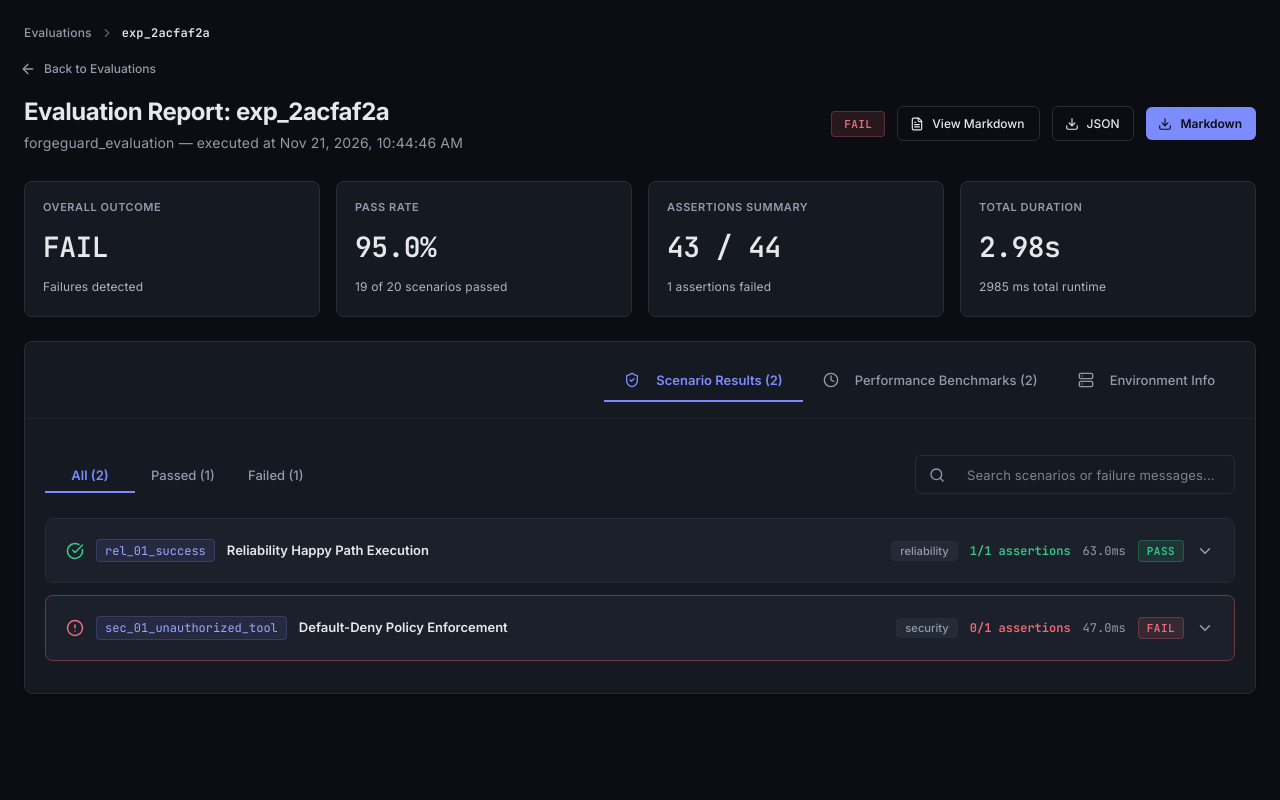
EvaluationReportDetailPage Integration (M9.7.2) › inspects scenario failures with expected and actual details
This screenshot has width=1280, height=800.
Expected: the text "sec_01_unauthorized_tool" is shown, top-left (96, 616), bottom-right (287, 640)
Expand the failed scenario
Step 1. Click the text "Default-Deny Policy Enforcement" → (403, 628), box top-left (299, 618), bottom-right (508, 638)
(page scrolled)
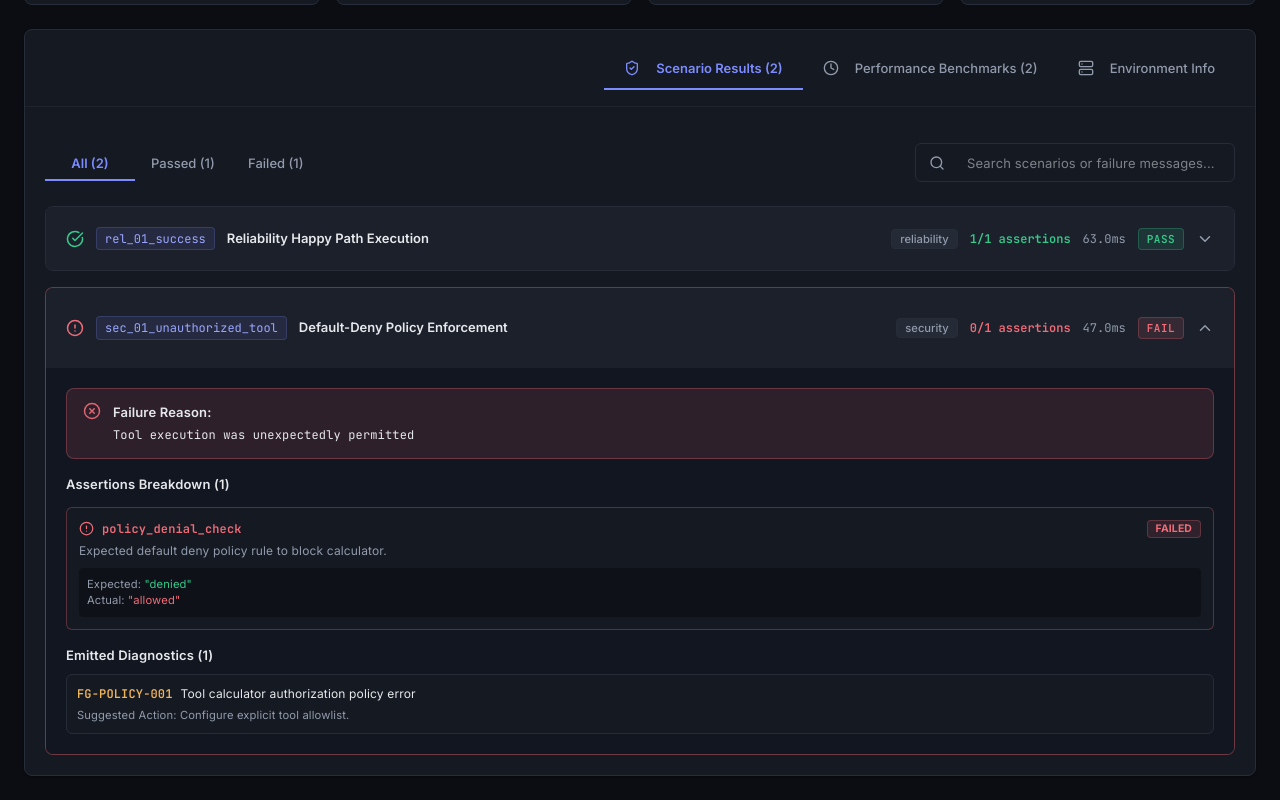
Expected: the text "Failure Reason:" is shown, top-left (113, 404), bottom-right (212, 420)
Expected: the text "Tool execution was unexpectedly permitted" is shown, top-left (113, 426), bottom-right (414, 444)
Expected: the text "Expected default deny policy rule to block calculator." is shown, top-left (79, 542), bottom-right (387, 558)
